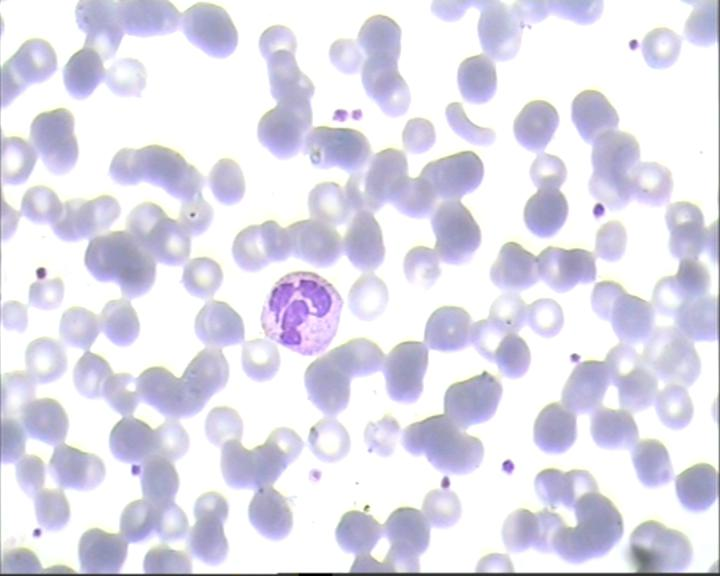neut: (256, 269, 347, 357)
